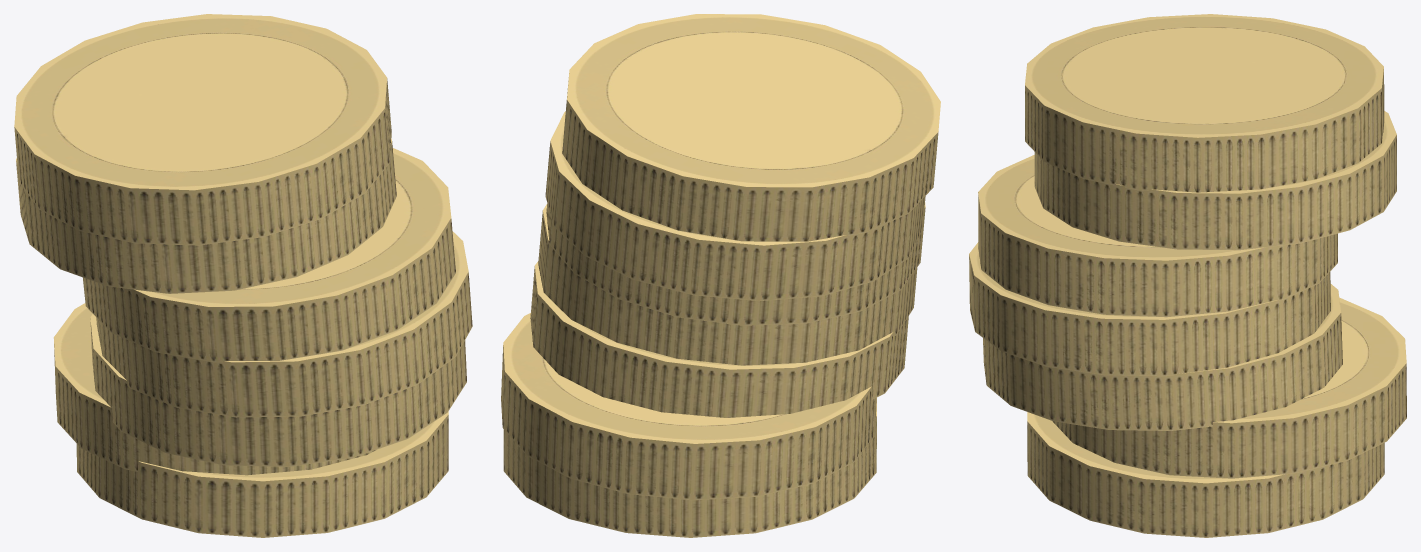
Rendered from Coin_B.fbx.
3 renders of one model, left to right at view 1: azimuth 30°, elevation 25°; view 2: azimuth 150°, elevation 25°; view 3: azimuth 270°, elevation 25°, orthographic. The views are drawn at different scales.
Parts seen in each view (by area): view 1: Cylinder003, Cylinder006, Cylinder007, Cylinder005, Cylinder002, Cylinder008, Cylinder004; view 2: Cylinder003, Cylinder004, Cylinder008, Cylinder002, Cylinder005, Cylinder007, Cylinder006; view 3: Cylinder003, Cylinder006, Cylinder004, Cylinder007, Cylinder008, Cylinder005, Cylinder002.
Boxes of the visible parts, <box> form: Cylinder003: <box>14,14,391,245</box>; Cylinder006: <box>82,148,455,362</box>; Cylinder007: <box>76,411,448,537</box>; Cylinder005: <box>96,231,472,417</box>; Cylinder002: <box>90,314,466,466</box>; Cylinder008: <box>16,138,396,293</box>; Cylinder004: <box>53,303,375,475</box>; Cylinder003: <box>562,14,940,241</box>; Cylinder004: <box>501,313,876,500</box>; Cylinder008: <box>545,111,925,301</box>; Cylinder002: <box>530,261,908,417</box>; Cylinder005: <box>538,204,917,365</box>; Cylinder007: <box>503,398,876,537</box>; Cylinder006: <box>546,202,925,325</box>; Cylinder003: <box>1025,14,1384,192</box>; Cylinder006: <box>978,155,1337,317</box>; Cylinder004: <box>1052,297,1406,478</box>; Cylinder007: <box>1027,412,1384,537</box>; Cylinder008: <box>1034,111,1396,250</box>; Cylinder005: <box>969,242,1330,376</box>; Cylinder002: <box>983,284,1342,430</box>.
Bounding box in the file's own units: 6.55 × 6.64 × 6.22.
